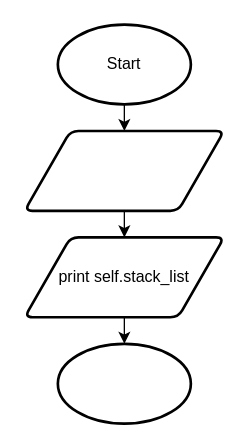
This 247x447 diagram has some shape labels left out. Each missing label, with the centre of its shape:
"get self" goes at pixel 124 170.
"Stop" goes at pixel 124 383.
